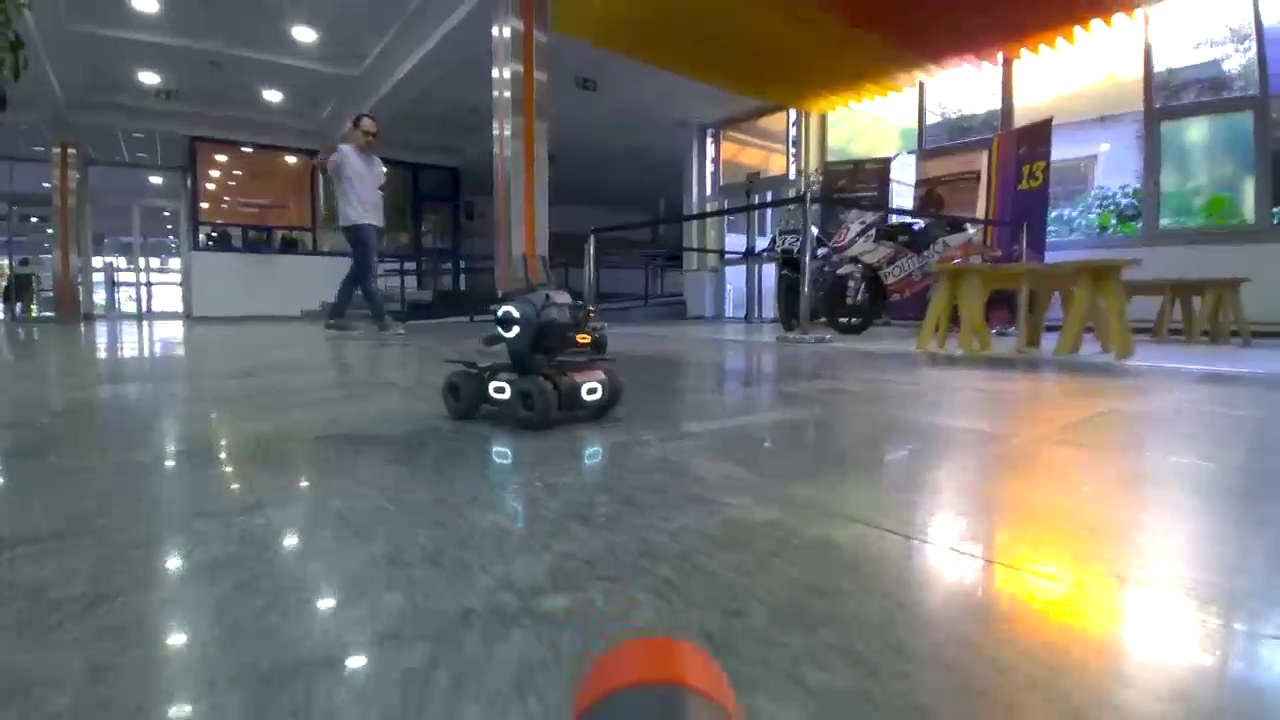robot: (442, 293, 622, 425)
